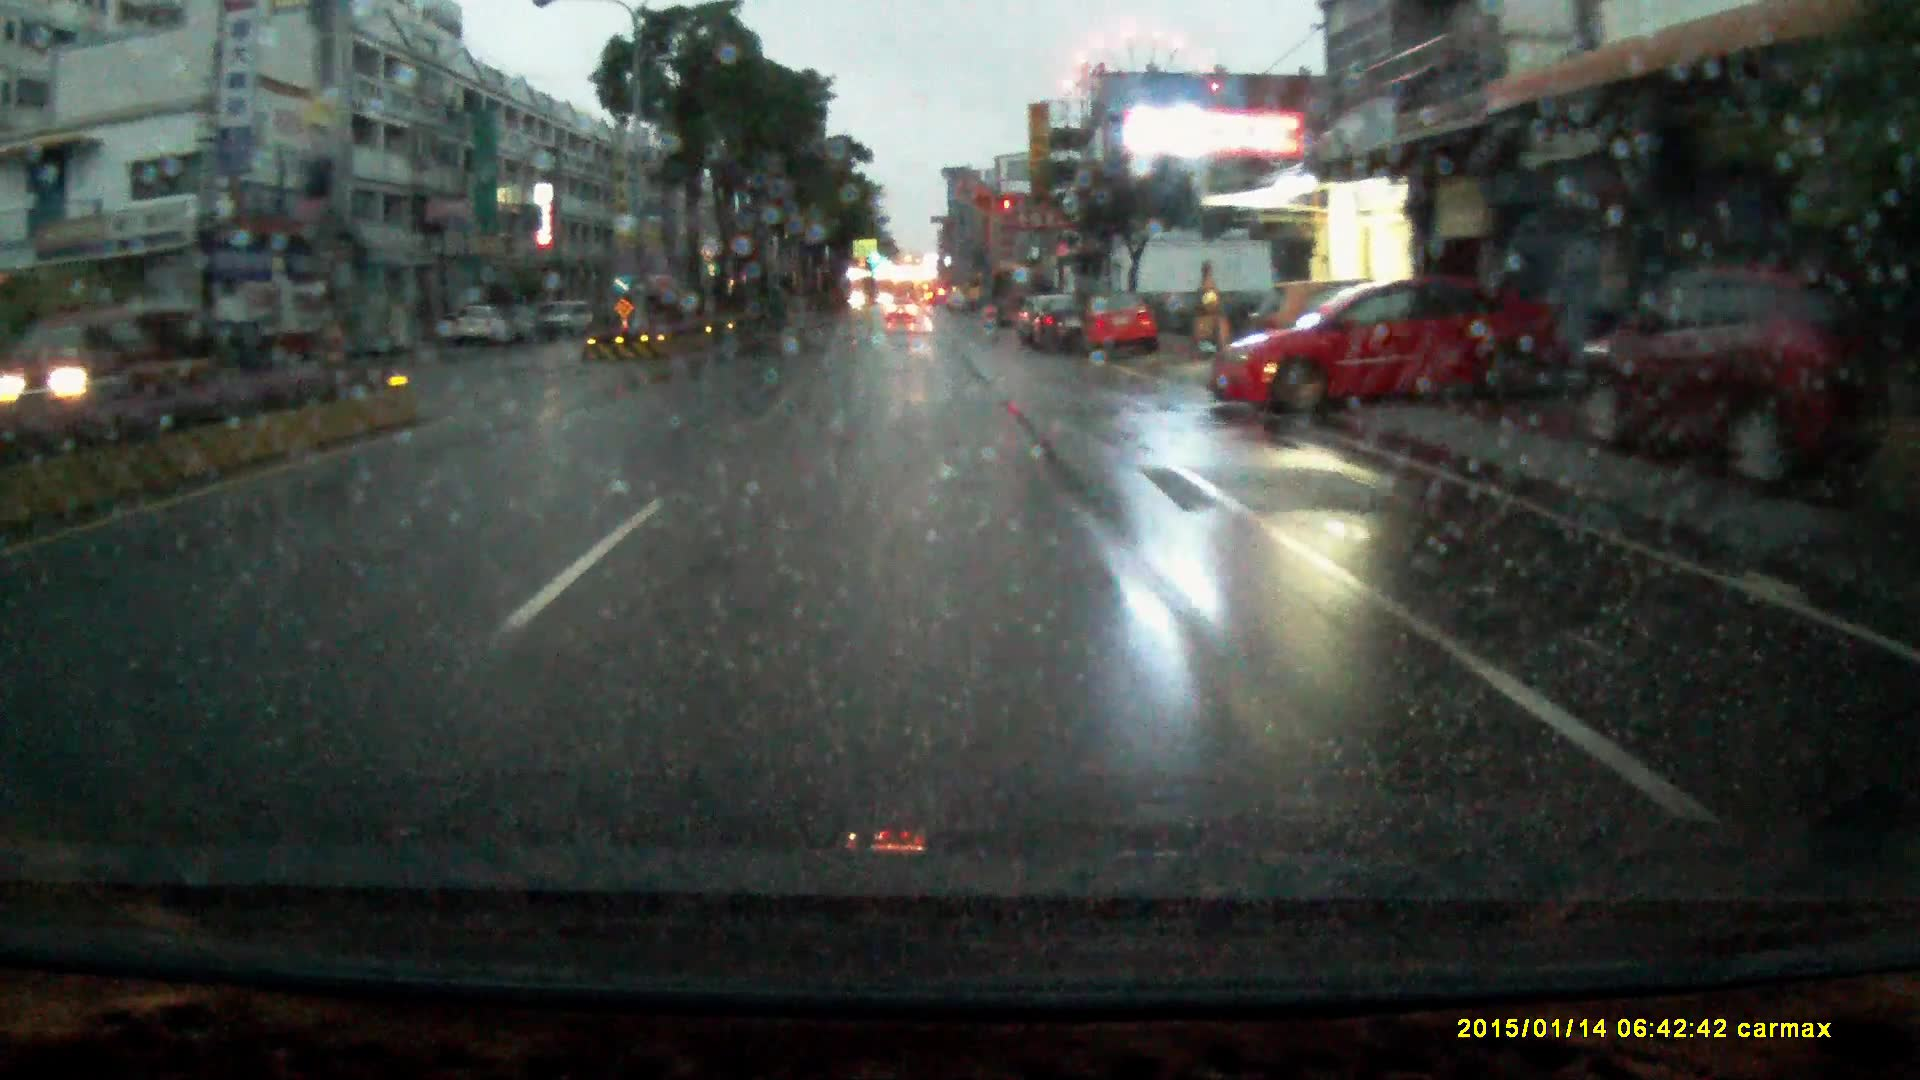vehicle: (1573, 265, 1896, 495), (1217, 272, 1575, 415), (18, 301, 211, 414), (1073, 295, 1164, 361), (1026, 295, 1092, 355), (454, 301, 508, 348), (541, 301, 599, 340), (886, 297, 918, 324)
